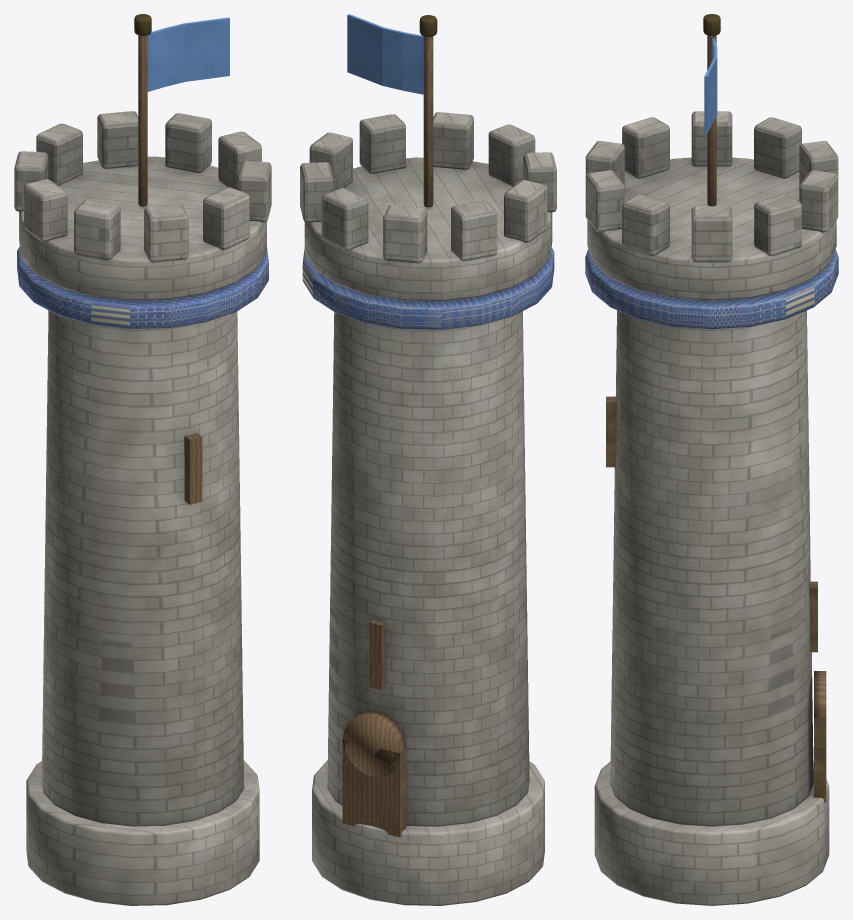
File: tower_iran.glb
3 renders of one model, left to right at view 1: azimuth 30°, elevation 25°; view 2: azimuth 150°, elevation 25°; view 3: azimuth 270°, elevation 25°, orthographic.
Parts seen in each view (by area): view 1: tower_iran; view 2: tower_iran; view 3: tower_iran.
Boxes of the visible parts, bbox=[...] form: tower_iran: bbox=[14, 14, 271, 905]; tower_iran: bbox=[300, 14, 556, 905]; tower_iran: bbox=[585, 14, 838, 905].
Bounding box in the file's own units: 2.5 × 9.09 × 2.48.
1 material, 1 textured.
